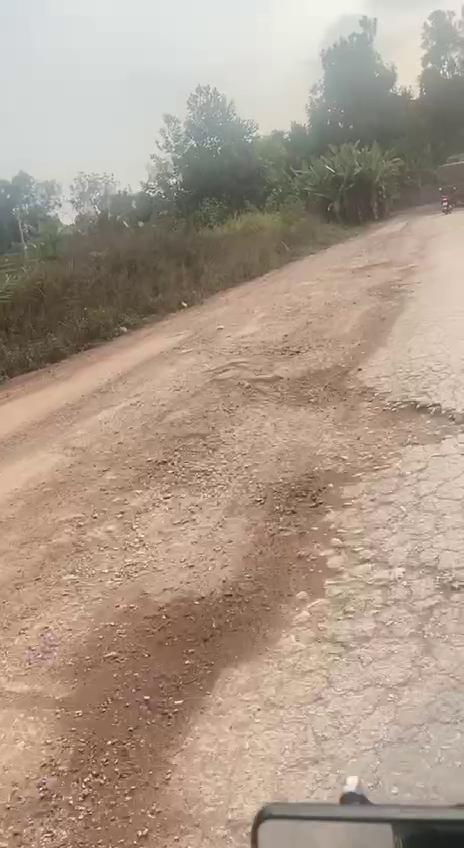pothole: (359, 400, 464, 449)
